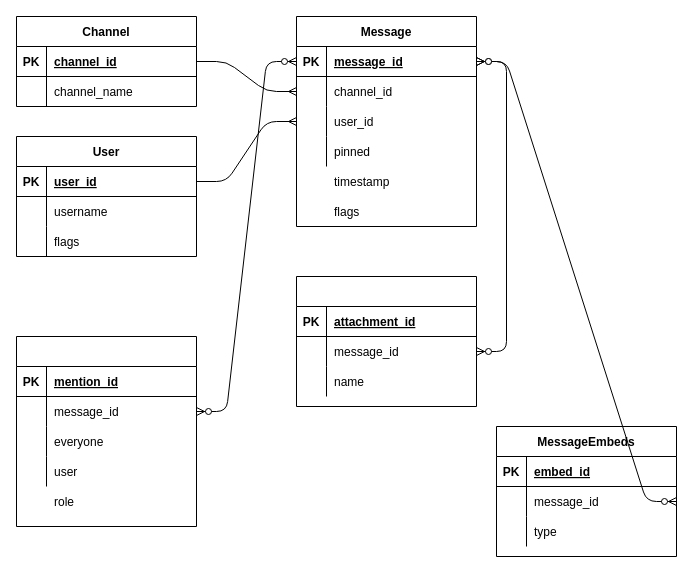
Some shapes in this 693 by 573 pixel diagram are drawn without their labels. The shapes that lost their labels are listed below. From the top down, each one's box as (x1, y1, x2, y2) in pixels, then its label:
(296, 276, 476, 406): Attachments
(16, 336, 196, 526): Mentions
